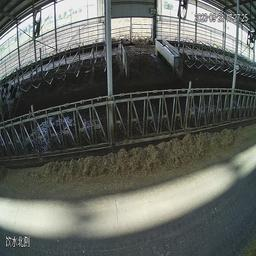cow: (1, 72, 22, 122)
